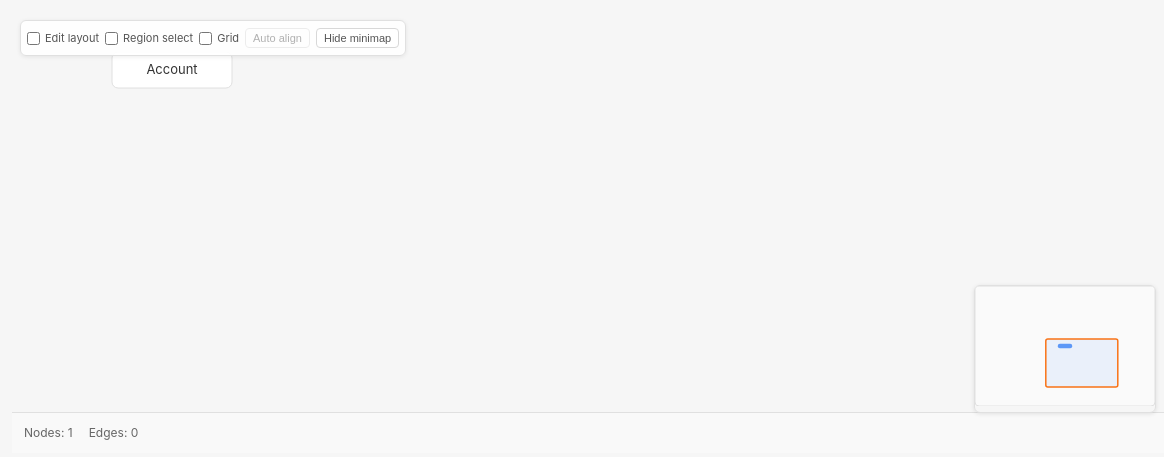
persists the user's minimap visibility from one button
Expected: the element with class "testbed-minimap" is shown, left=974, top=285, right=1156, bottom=413
Click the button "Hide minimap". click: (358, 38)
box: left=316, top=28, right=399, bottom=48
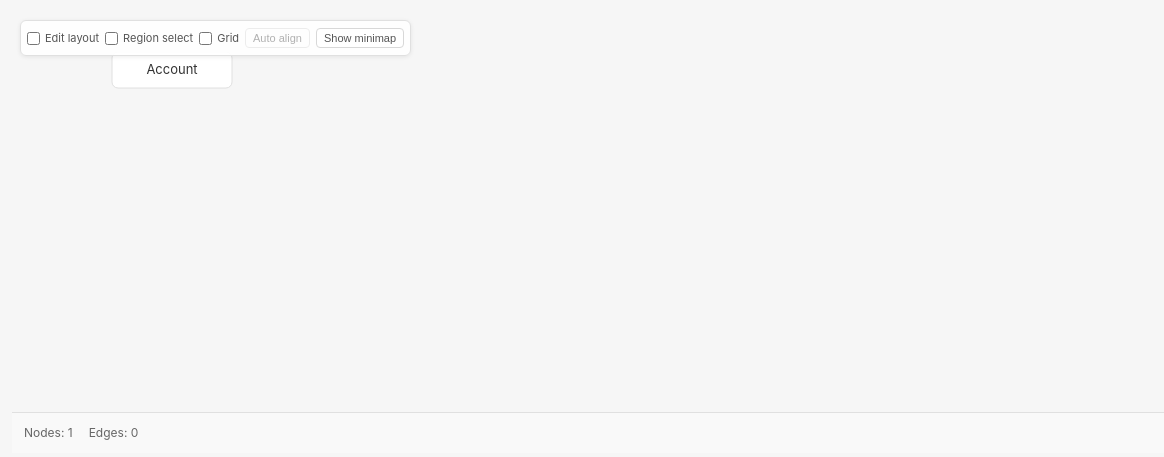
Now the element with class "testbed-minimap" is gone
